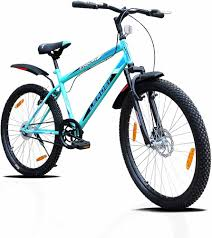Bicycle: (10, 3, 210, 212)
